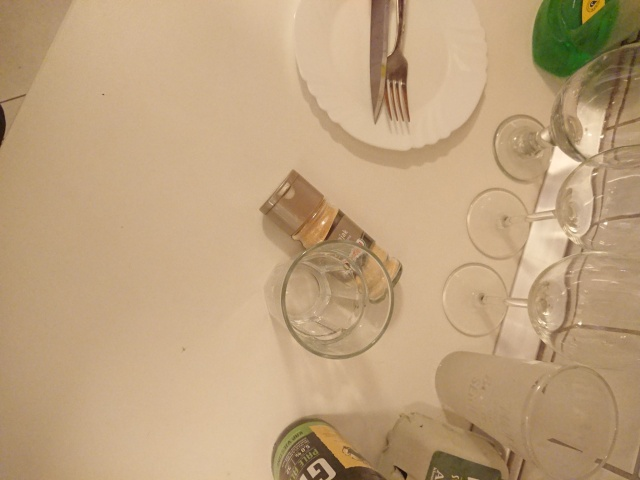Kotanyi Garlic Granules 70g: (257, 166, 406, 304)
